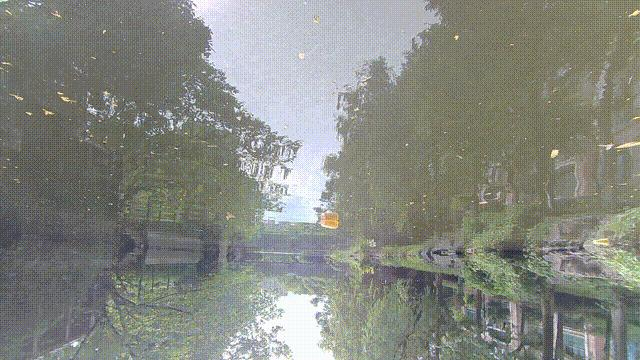Plastic: (317, 219, 340, 229), (593, 238, 610, 244), (368, 238, 376, 249), (467, 247, 476, 254), (407, 234, 415, 241)
